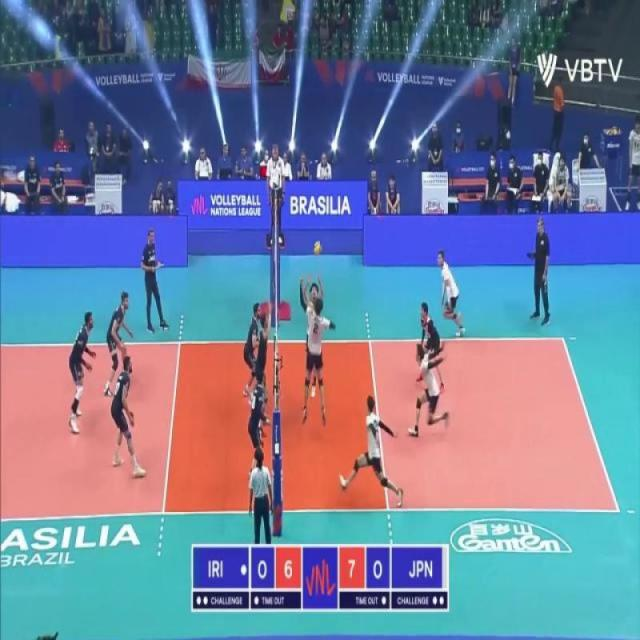volleyball: (312, 239, 323, 257), (611, 125, 619, 136), (606, 128, 612, 136)
